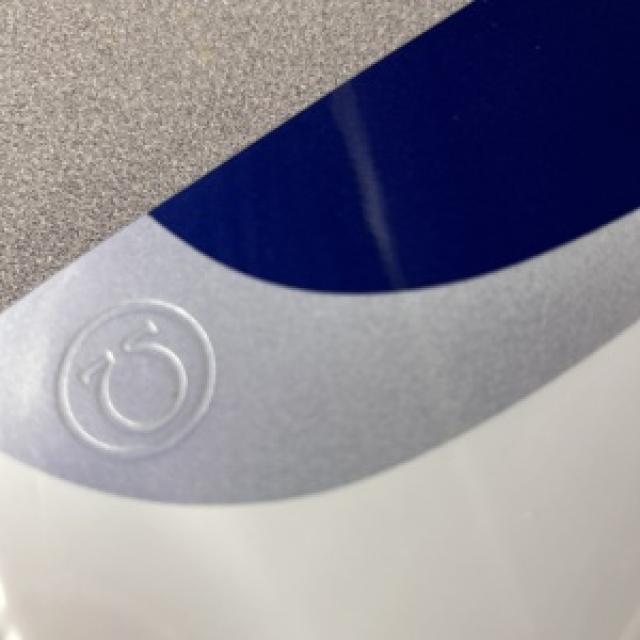healthy: (0, 320, 638, 638), (0, 0, 467, 307)
